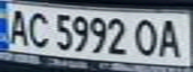2: (106, 15, 130, 56)
5: (51, 11, 72, 52)
9: (87, 15, 109, 55), (69, 12, 90, 53)
A: (154, 16, 187, 60), (3, 6, 30, 46)
C: (24, 9, 54, 48)
O: (130, 16, 163, 57)
